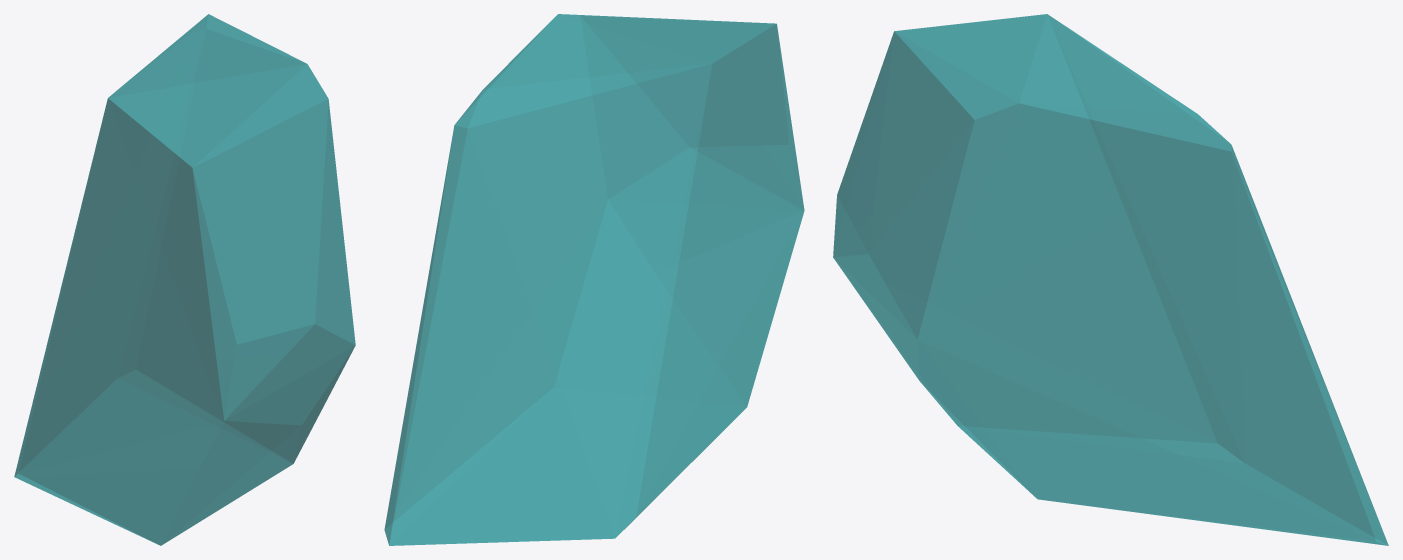
3 views of the same model, side by side, from view 1: azimuth 30°, elevation 25°; view 2: azimuth 150°, elevation 25°; view 3: azimuth 270°, elevation 25° (orthographic). The views are drawn at different scales.
Parts seen in each view (by area): view 1: Shape_IndexedFaceSet.026_Shape_IndexedFaceSet.18004; view 2: Shape_IndexedFaceSet.026_Shape_IndexedFaceSet.18004; view 3: Shape_IndexedFaceSet.026_Shape_IndexedFaceSet.18004.
Part boxes in pixels (x1,y1,x2,y2): Shape_IndexedFaceSet.026_Shape_IndexedFaceSet.18004: [14, 14, 355, 545]; Shape_IndexedFaceSet.026_Shape_IndexedFaceSet.18004: [384, 14, 804, 545]; Shape_IndexedFaceSet.026_Shape_IndexedFaceSet.18004: [833, 14, 1388, 545].
Bounding box in the file's own units: 0.1016 × 0.2227 × 0.2514.
